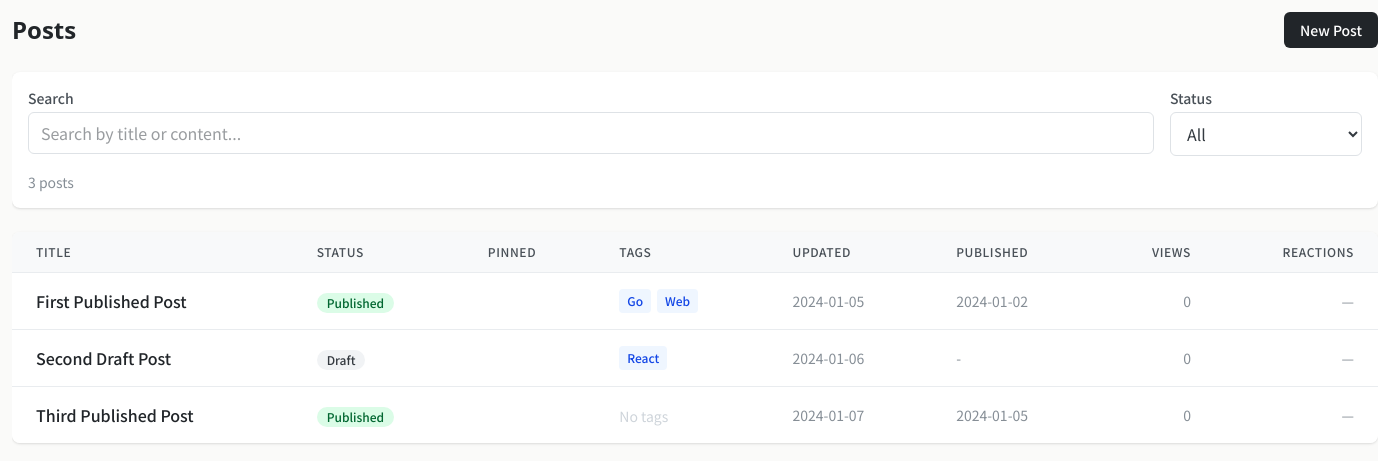
Test: PostList › Search functionality › should clear search when clear button is clicked
The image size is (1378, 461).
Expected: the link "First Published Post" is shown, [36,289,186,313]
Type "First" into the field labelled "Search" at (591, 133), box [28,112,1154,154]
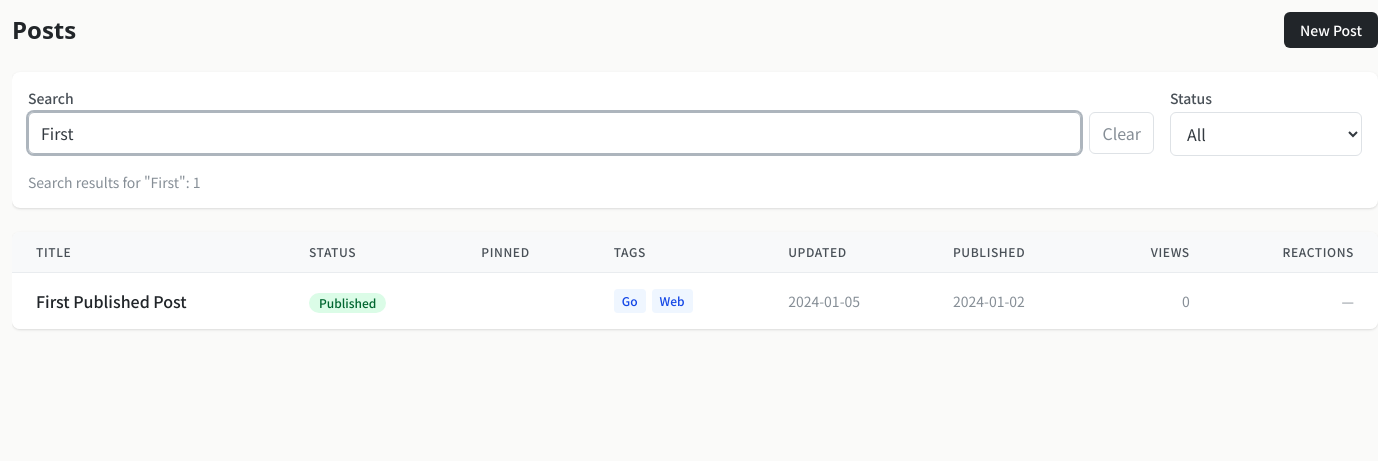
Expected: the text "Search results for \"First\": 1" is shown, [28,172,200,192]
Click the button titled "Clear search" at (1122, 133), box [1090,112,1154,154]
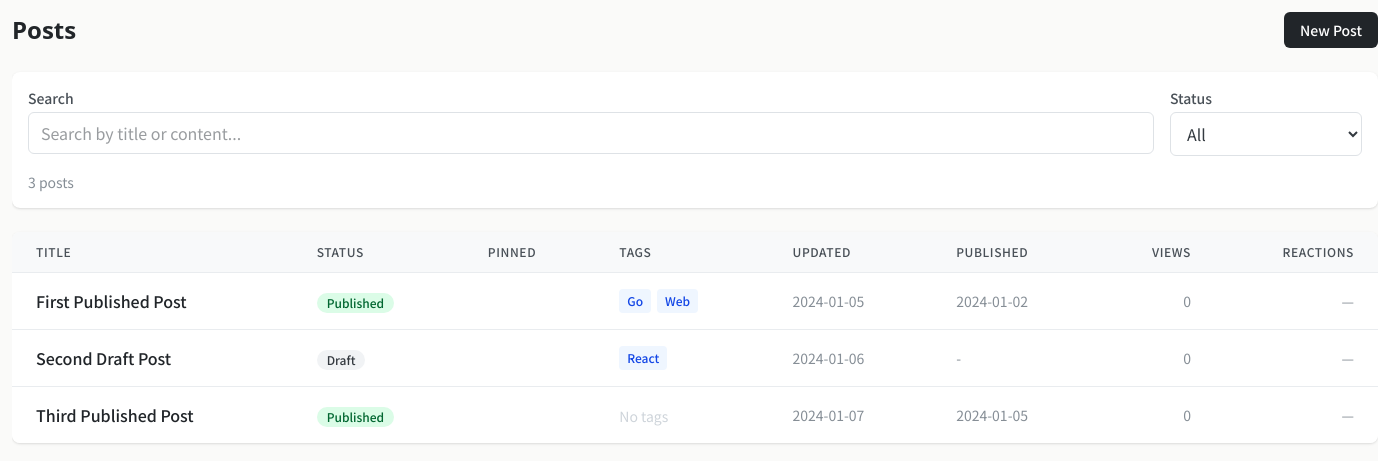
Expected: the field labelled "Search" is empty, [28,112,1154,154]
